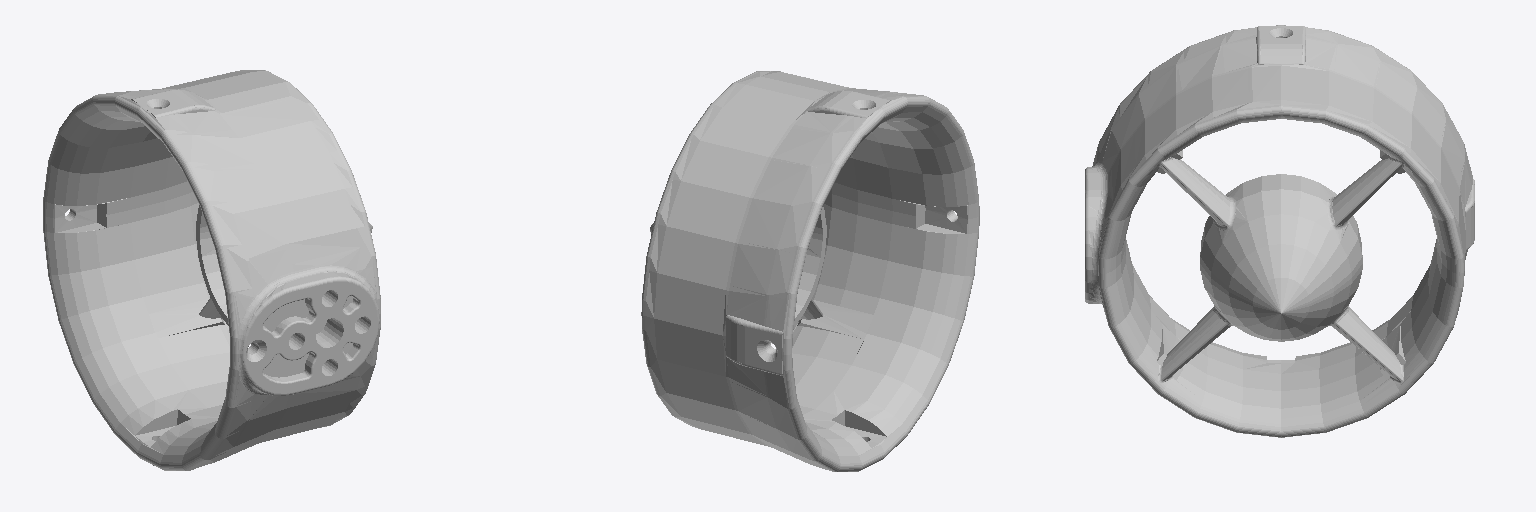
The model's file is T200_02_T200STEP_T200STEPSTEP_T200_NOZZLESTEPSTEP_T200STEP1_02_T200STEP1.obj.
The picture shows the model from 3 angles: view 1: azimuth 30°, elevation 25°; view 2: azimuth 150°, elevation 25°; view 3: azimuth 270°, elevation 25°; orthographic projection.
Size of the model in its own units: 0.0679 by 0.0966 by 0.0973.